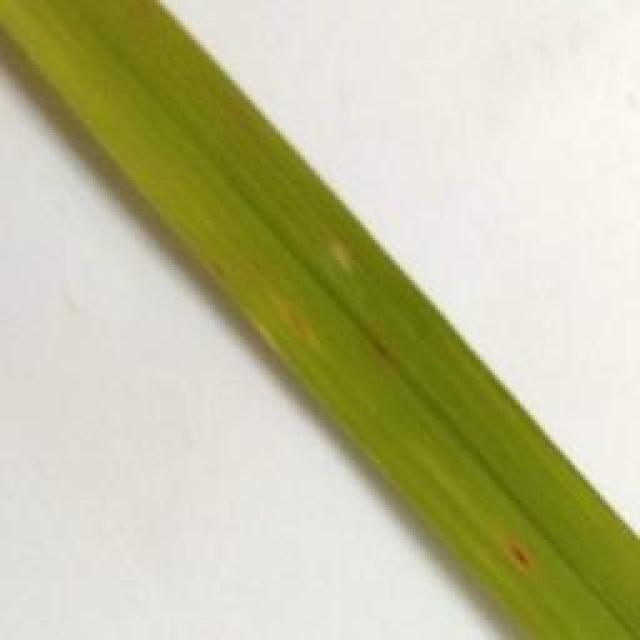Brown_Spot: (281, 294, 332, 355), (492, 533, 546, 577), (372, 332, 402, 364), (208, 257, 226, 286)
